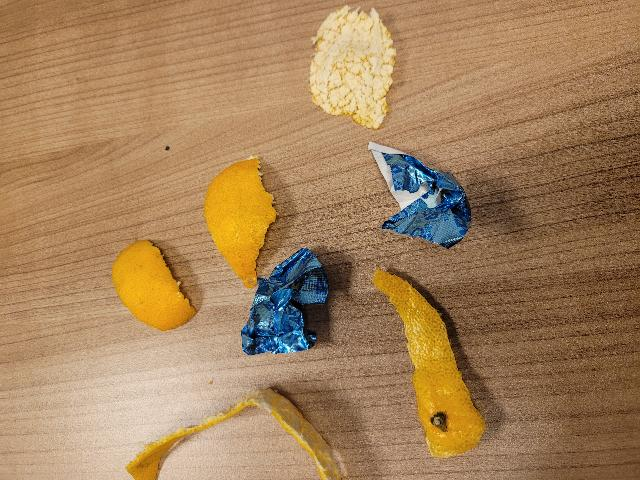Kagit: (359, 137, 487, 256), (242, 246, 339, 370)
Organik: (367, 255, 502, 475), (113, 387, 360, 480), (306, 0, 408, 138), (198, 144, 283, 283), (111, 233, 213, 335)
